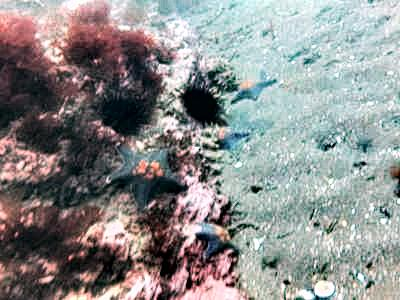urchin: (98, 93, 143, 139), (181, 85, 229, 126)
